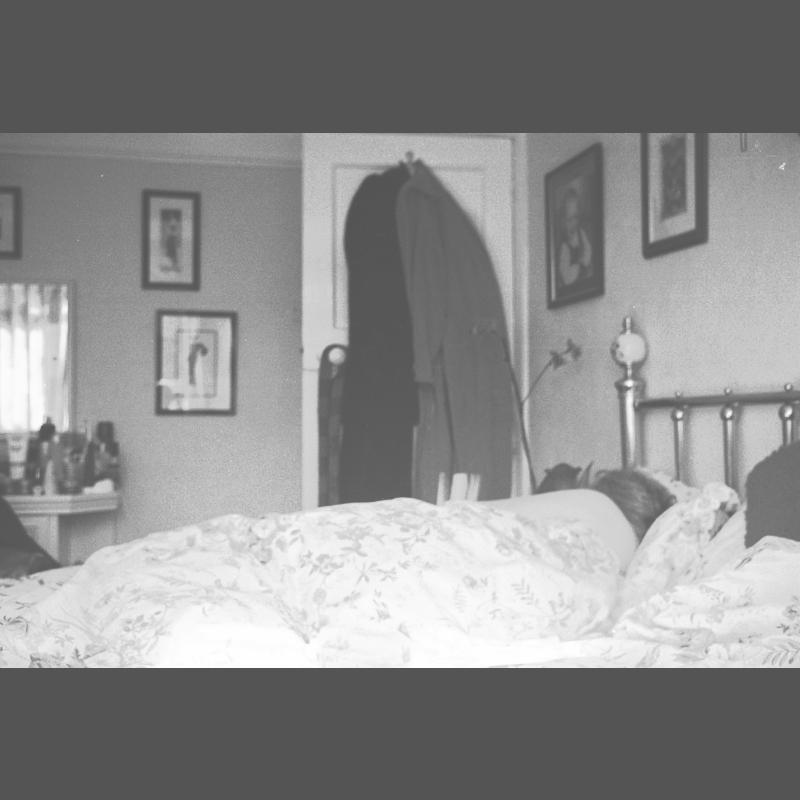pillow: (612, 462, 738, 628)
